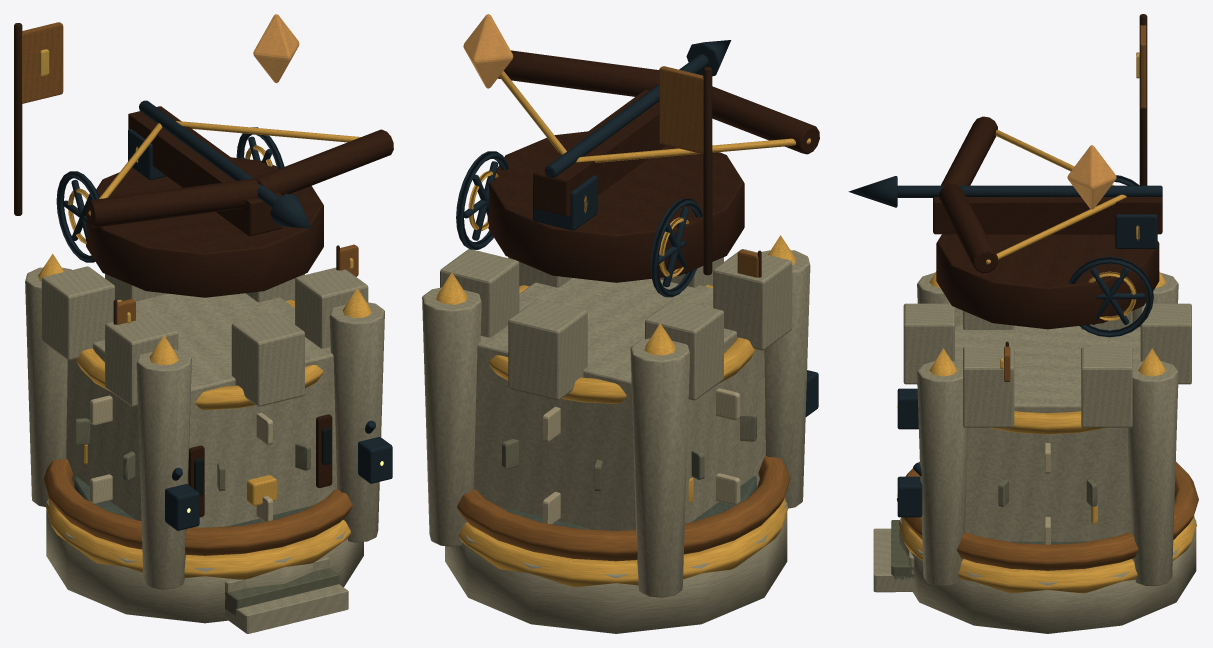
The model's file is tower-ballista-3-0.glb.
The picture shows the model from 3 angles, left to right: view 1: azimuth 30°, elevation 25°; view 2: azimuth 150°, elevation 25°; view 3: azimuth 270°, elevation 25°; orthographic projection. The views are drawn at different scales.
Parts seen in each view (by area): view 1: Foundation, Turret, ballista-L3-0; view 2: Foundation, Turret, ballista-L3-0; view 3: Foundation, Turret, ballista-L3-0.
Boxes of the visible parts, x1,y1,x2,y2 form: Foundation: [14, 22, 392, 633]; Turret: [56, 14, 393, 297]; ballista-L3-0: [46, 476, 363, 623]; Foundation: [422, 66, 818, 597]; Turret: [456, 14, 819, 297]; ballista-L3-0: [445, 476, 787, 633]; Foundation: [873, 14, 1198, 593]; Turret: [848, 116, 1162, 337]; ballista-L3-0: [899, 517, 1196, 633].
Bounding box in the file's own units: 1.83 × 3.09 × 1.98.
14 materials, 14 textured.
